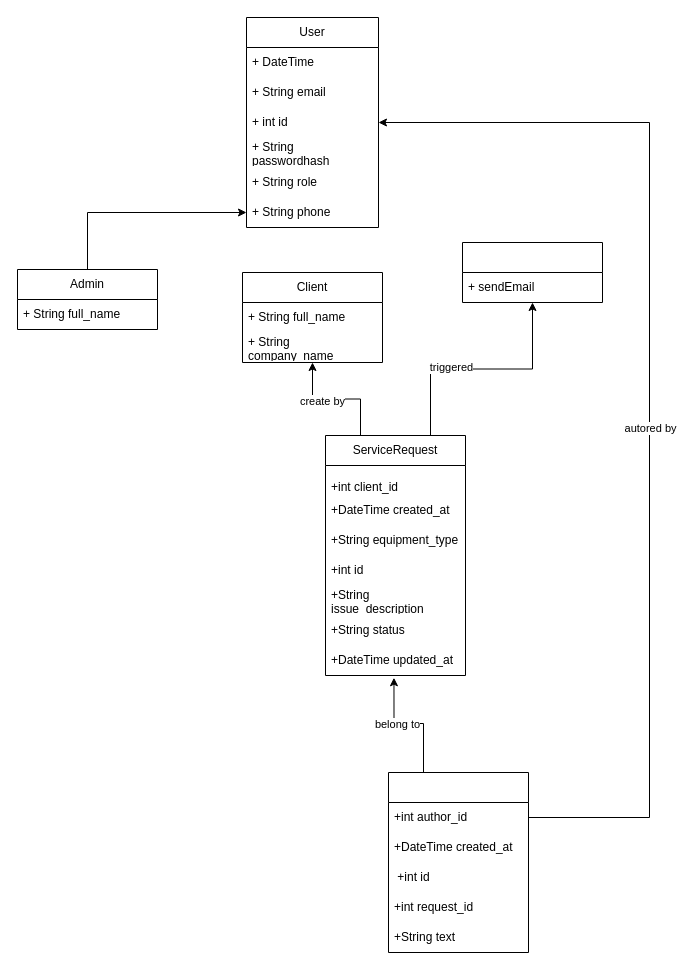
The diagram is 693 pixels wide and 970 high, and some of its shapes have lost their labels. Here are the shapes that lost their labels. From the top down, the box of each, then its label:
(462, 242, 602, 302): Notification
(388, 772, 528, 952): Comment
